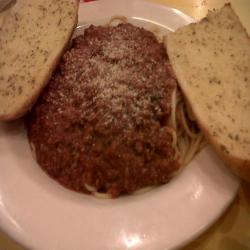bolonese_pasta: (30, 23, 208, 192)
bread: (162, 4, 250, 183), (1, 2, 85, 121)
